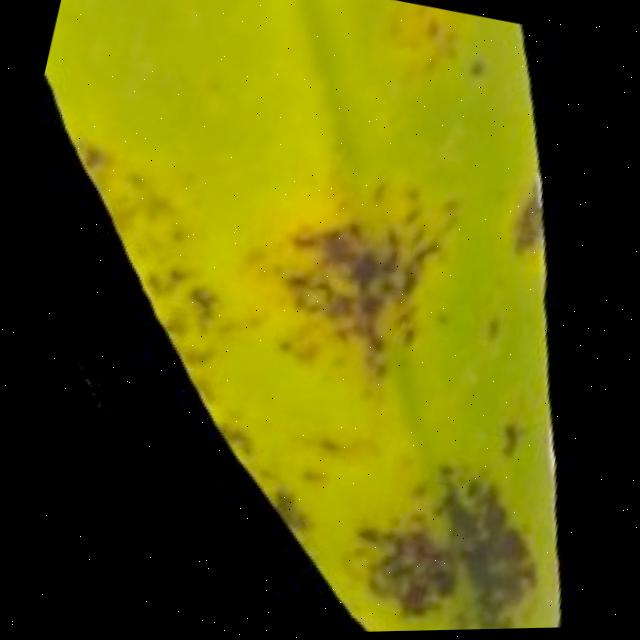mite: (364, 518, 472, 626), (491, 412, 536, 467), (184, 280, 226, 323), (499, 420, 529, 461), (462, 52, 497, 87), (423, 14, 448, 42), (468, 55, 492, 81)
sunburn: (256, 156, 473, 392)
